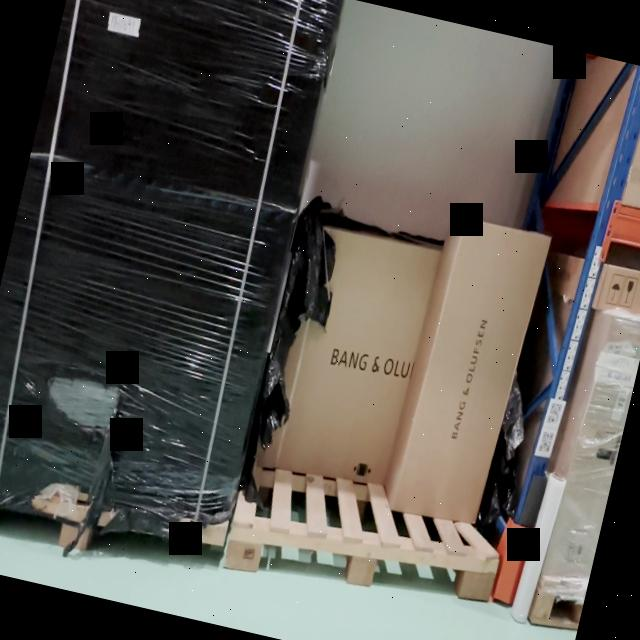box: (392, 219, 553, 525)
